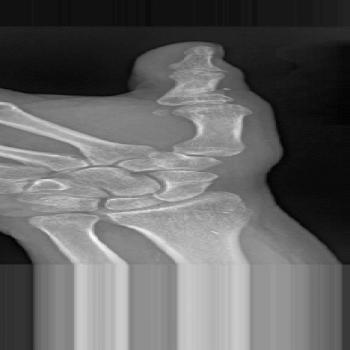Fracture: (144, 97, 191, 120)
